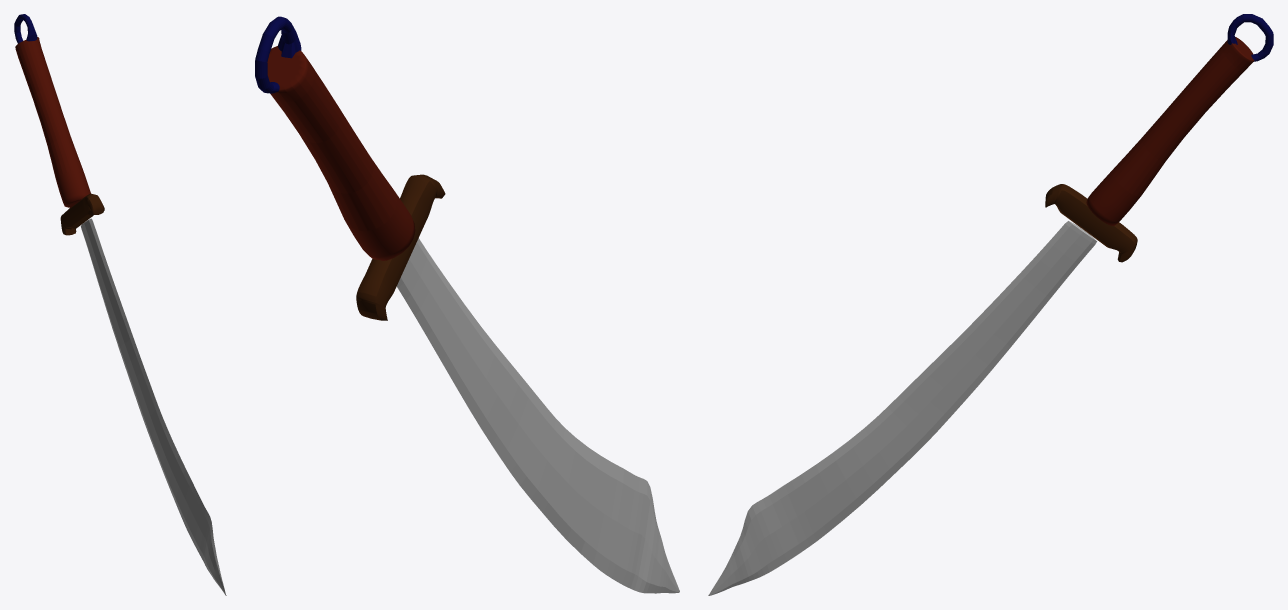
File: Sword.glb
The picture shows the model from 3 angles, left to right: view 1: azimuth 30°, elevation 25°; view 2: azimuth 150°, elevation 25°; view 3: azimuth 270°, elevation 25°; orthographic projection. The views are drawn at different scales.
Visible parts, largest first — view 1: pCube1, pCylinder2, pCube3, pCylinder3; view 2: pCube1, pCylinder2, pCube3, pCylinder3; view 3: pCube1, pCylinder2, pCube3, pCylinder3.
Boxes of the visible parts, x1,y1,x2,y2 form: pCube1: (80, 218, 226, 595); pCylinder2: (15, 37, 90, 207); pCube3: (60, 193, 104, 235); pCylinder3: (14, 14, 37, 43); pCube1: (396, 238, 679, 593); pCylinder2: (267, 46, 415, 260); pCube3: (356, 174, 445, 320); pCylinder3: (255, 16, 301, 93); pCube1: (708, 221, 1096, 595); pCylinder2: (1086, 37, 1254, 225); pCube3: (1045, 184, 1137, 262); pCylinder3: (1227, 14, 1273, 61).
Size of the model in its own units: 0.5402 by 8.73 by 7.69.
